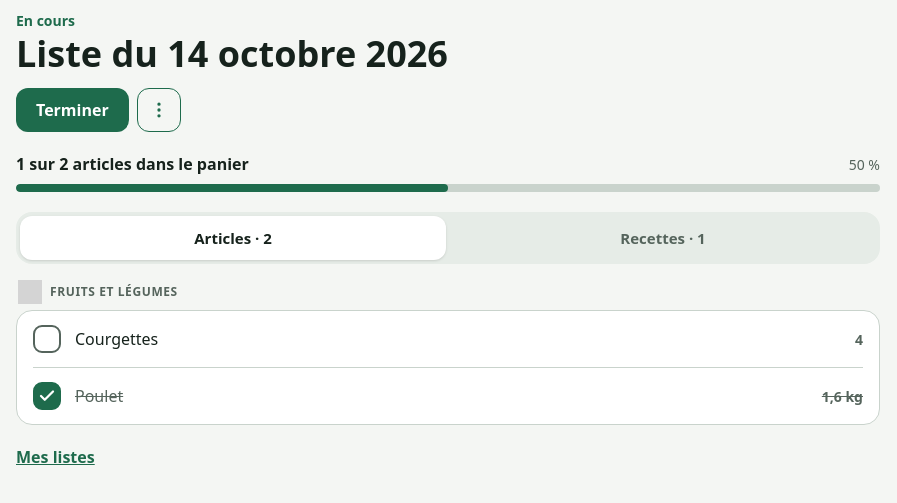
ShoppingListView › recettes planifiées › liste les repas par type avec leur nombre de personnes
Press the mouse on the tab "Recettes · 1" at [663, 238], box left=450, top=216, right=876, bottom=260
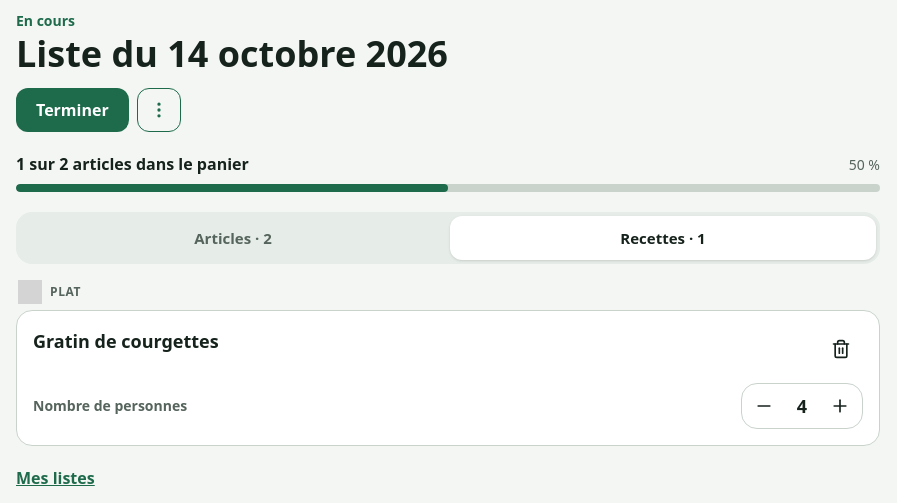
Expected: the text "4" is shown, left=797, top=394, right=807, bottom=418
Expected: the text "Gratin de courgettes" is shown, left=33, top=327, right=219, bottom=355
